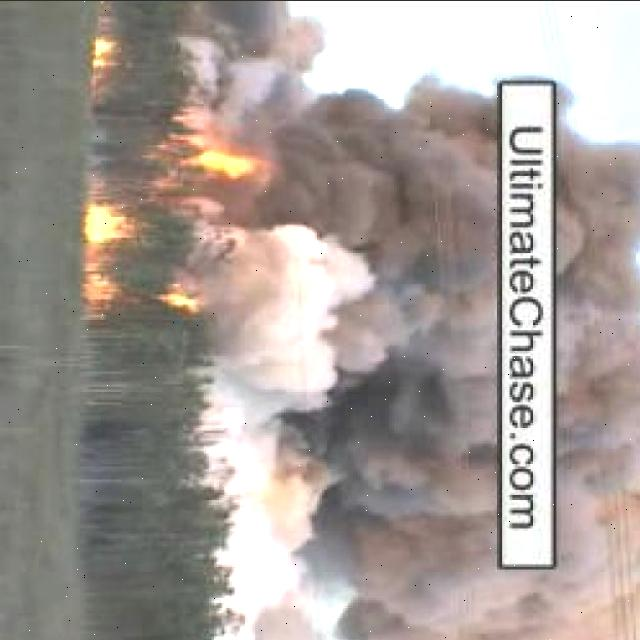fire: (86, 284, 214, 315), (81, 193, 151, 243), (183, 152, 269, 185), (95, 31, 117, 74)
